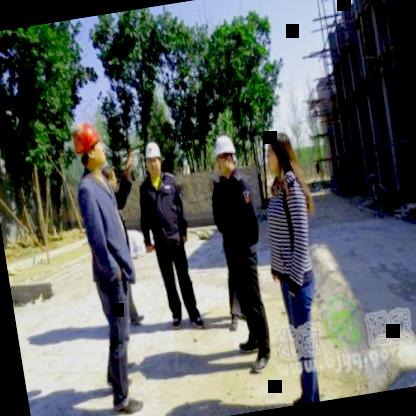head: (260, 121, 300, 182), (100, 163, 119, 191)
helmet: (68, 116, 107, 174), (210, 130, 242, 180), (142, 136, 165, 181)
